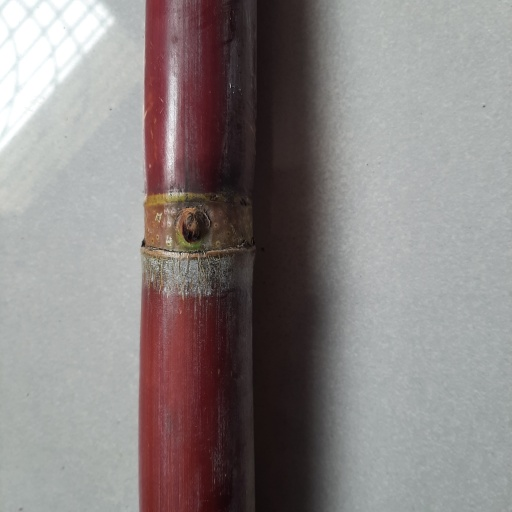Bud: (181, 211, 209, 245)
